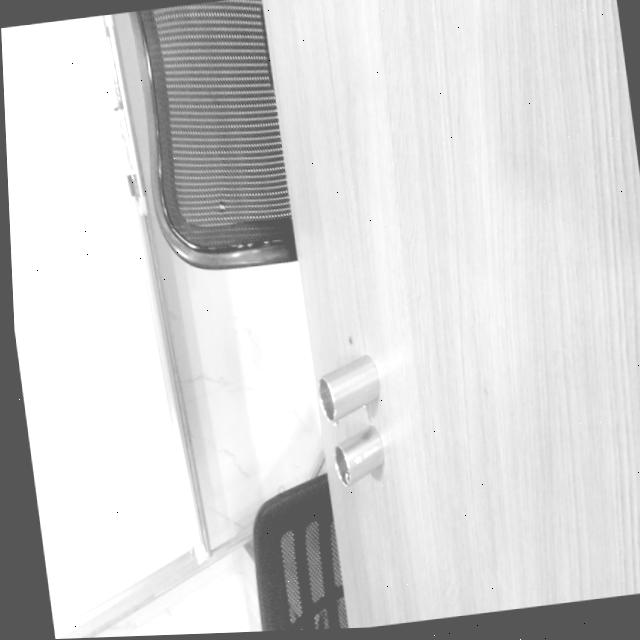Co_Lon: (306, 347, 391, 426)
Co_Nho: (323, 422, 394, 487)
